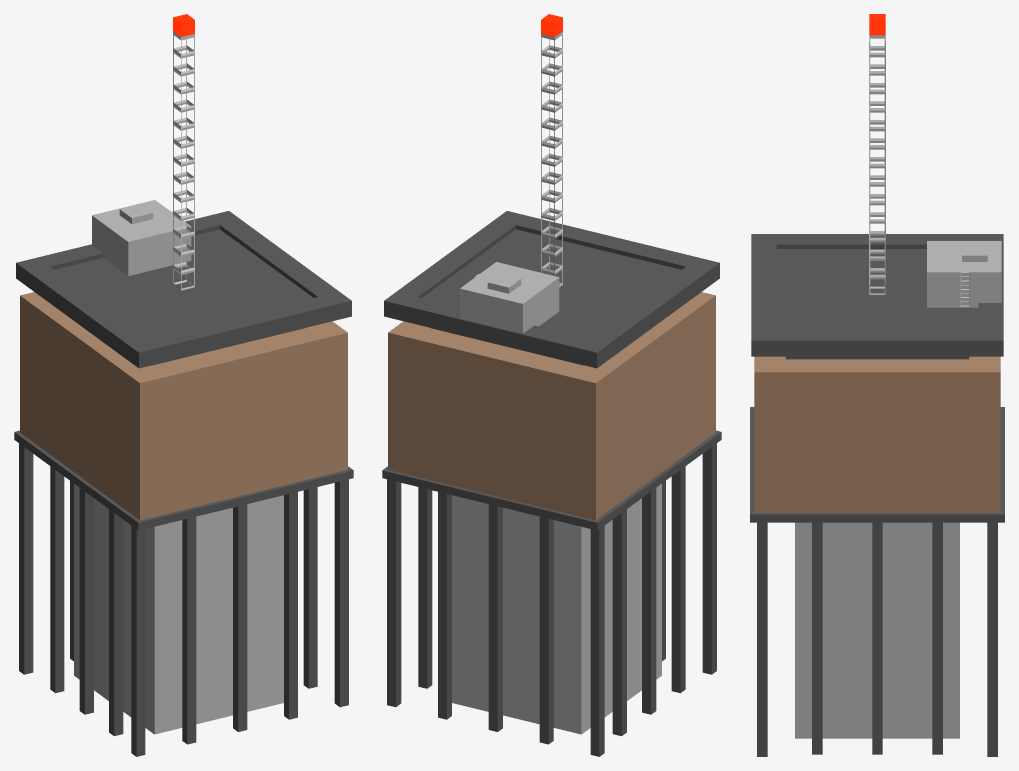
File: water_tower_01.glb
3 renders of one model, left to right at view 1: azimuth 30°, elevation 25°; view 2: azimuth 150°, elevation 25°; view 3: azimuth 270°, elevation 25°, orthographic. The views are drawn at different scales.
Parts seen in each view (by area): view 1: Cube.001, Cube.006, Cube, Cube.002, Cube.004, Cube.007, Cube.003; view 2: Cube.001, Cube.006, Cube, Cube.002, Cube.004, Cube.007, Cube.003; view 3: Cube.001, Cube, Cube.002, Cube.006, Cube.004, Cube.007, Cube.003.
Part boxes in pixels (box(x1,y1,x2,y2)): Cube.001: box(20, 292, 347, 520); Cube.006: box(19, 443, 348, 756); Cube: box(74, 484, 283, 734); Cube.002: box(16, 211, 351, 368); Cube.004: box(92, 200, 191, 275); Cube.007: box(14, 430, 353, 530); Cube.003: box(173, 31, 194, 290); Cube.001: box(388, 292, 715, 520); Cube.006: box(387, 443, 716, 756); Cube: box(452, 484, 661, 734); Cube.002: box(384, 211, 719, 368); Cube.004: box(460, 262, 559, 333); Cube.007: box(382, 430, 721, 530); Cube.003: box(541, 31, 562, 286); Cube.001: box(754, 356, 1000, 512); Cube: box(795, 522, 959, 738); Cube.002: box(751, 234, 1003, 359); Cube.006: box(757, 522, 997, 756); Cube.004: box(927, 241, 1001, 307); Cube.007: box(750, 407, 1004, 522); Cube.003: box(869, 35, 885, 294).
Bounding box in the file's own units: 3.36 × 9.99 × 3.36.
